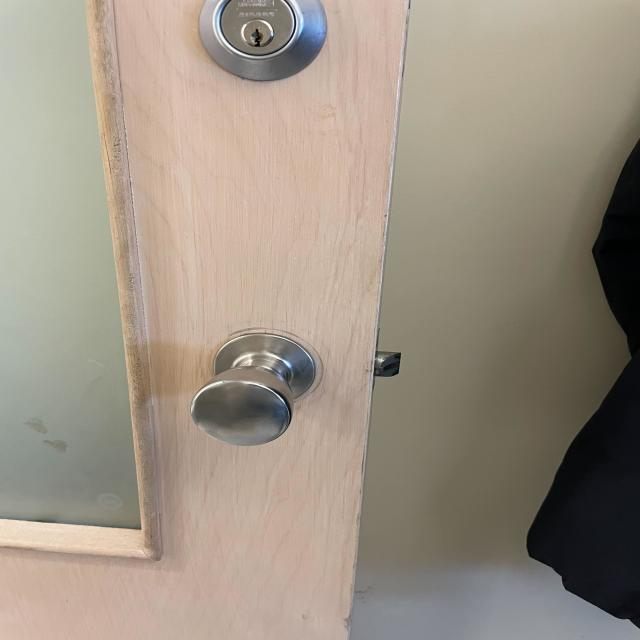door-knob: (190, 332, 320, 446)
